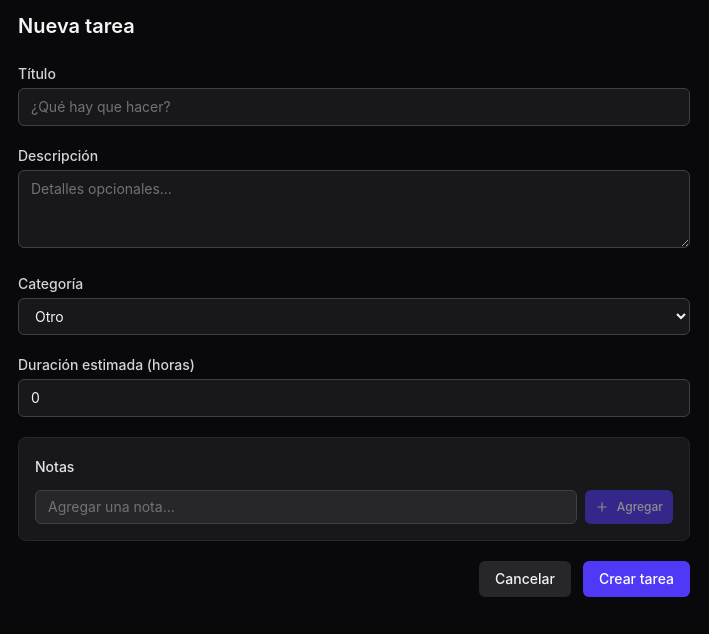
Test: TaskForm (TC-1) › TC-1 Error: empty title blocks submit with an inline error and no mutation
Click the button "Crear tarea" at [636, 579], box [583, 561, 690, 597]
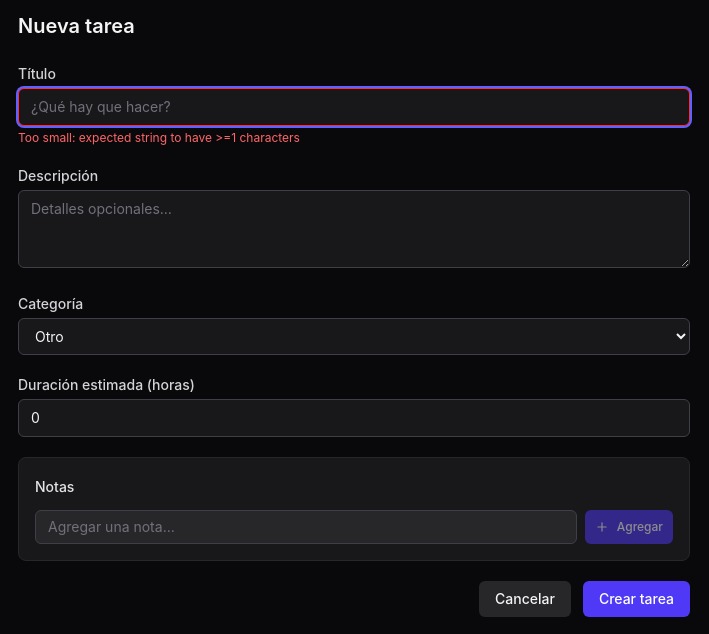
Expected: the text "Too small" is shown, [18, 130, 300, 145]
